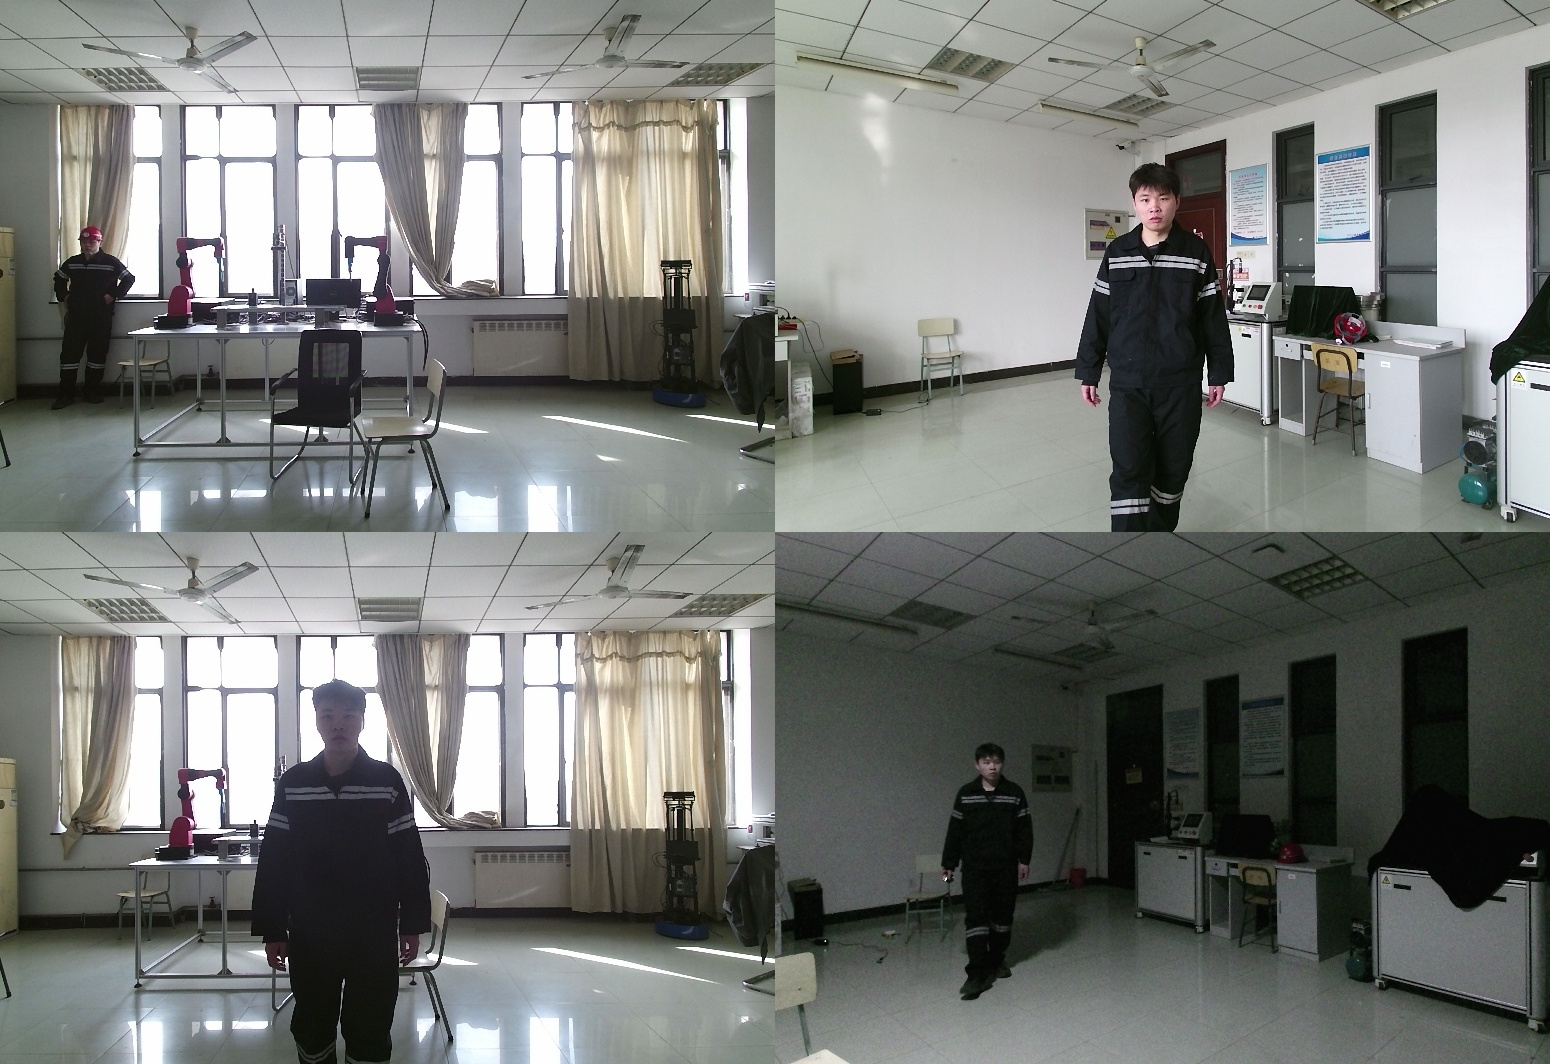person: (255, 681, 442, 1064), (1076, 165, 1245, 532), (943, 747, 1040, 997), (54, 231, 135, 404)
